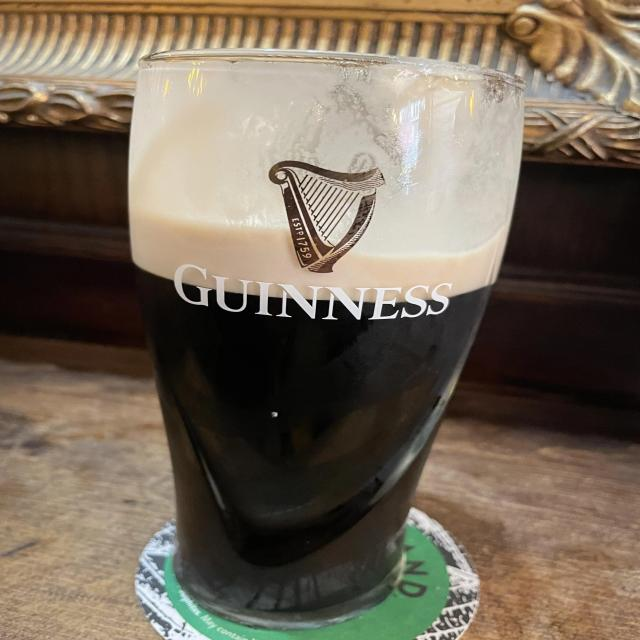split_guiness: (131, 54, 523, 632)
